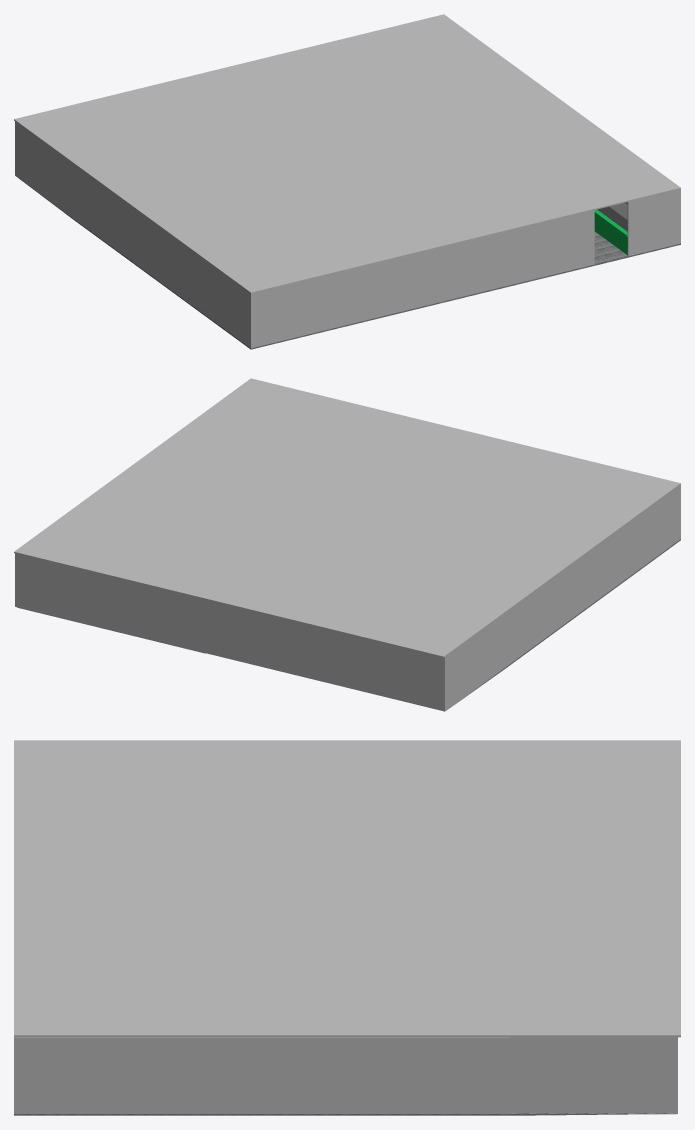
File: EscenarioAlargado.fbx
3 renders of one model, top to bottom at view 1: azimuth 30°, elevation 25°; view 2: azimuth 150°, elevation 25°; view 3: azimuth 270°, elevation 25°, orthographic. The views are drawn at different scales.
Visible parts, largest first — view 1: Piso.001, Pared 1.003, Pared 1.002, Pared 1.004, Piso, KioskoBase; view 2: Piso.001, Pared 1, Pared 1.002; view 3: Piso.001, Pared 1.001, Cube, Piso.
Part boxes in pixels (<box>): Piso.001: <box>14,14,680,293</box>; Pared 1.003: <box>250,210,594,348</box>; Pared 1.002: <box>15,122,250,347</box>; Pared 1.004: <box>627,189,679,256</box>; Piso: <box>18,178,680,349</box>; KioskoBase: <box>594,209,628,254</box>; Piso.001: <box>14,378,680,657</box>; Pared 1: <box>15,553,445,711</box>; Pared 1.002: <box>445,485,680,710</box>; Piso.001: <box>14,740,680,1037</box>; Pared 1.001: <box>14,1037,510,1113</box>; Cube: <box>510,1037,676,1114</box>; Piso: <box>14,1113,675,1115</box>.
Bounding box in the file's own units: 14045 × 1781 × 13409.
